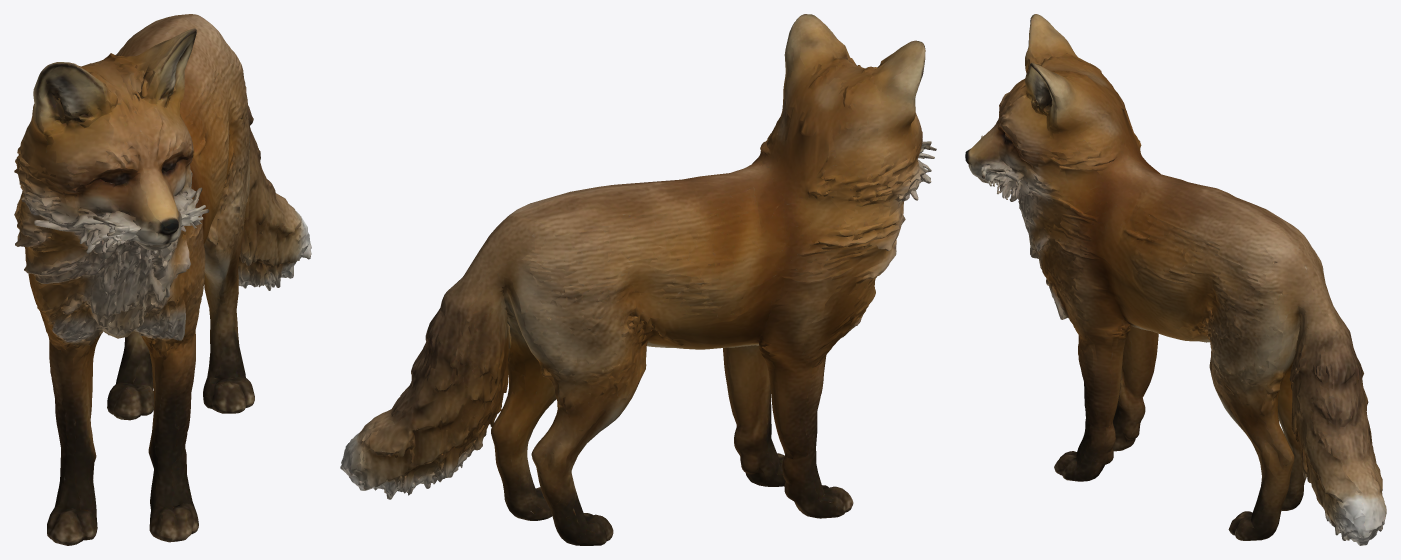
Rendered from red-fox-v21-lod.glb.
The picture shows the model from 3 angles, left to right: view 1: azimuth 30°, elevation 25°; view 2: azimuth 150°, elevation 25°; view 3: azimuth 270°, elevation 25°; orthographic projection. The views are drawn at different scales.
Visible parts, largest first — view 1: geometry_0; view 2: geometry_0; view 3: geometry_0.
Boxes of the visible parts, <box> form: geometry_0: <box>14,14,311,545</box>; geometry_0: <box>340,14,936,545</box>; geometry_0: <box>965,14,1386,545</box>.
Bounding box in the file's own units: 0.8992 × 0.9522 × 0.8933.
Materials: 1 (1 with a texture image).
